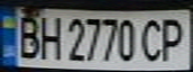0: (118, 16, 139, 63)
2: (63, 14, 84, 62)
7: (81, 15, 103, 62), (100, 15, 121, 62)
B: (9, 11, 42, 60)
C: (139, 16, 169, 64)
H: (33, 11, 63, 61)
P: (157, 15, 190, 63)
